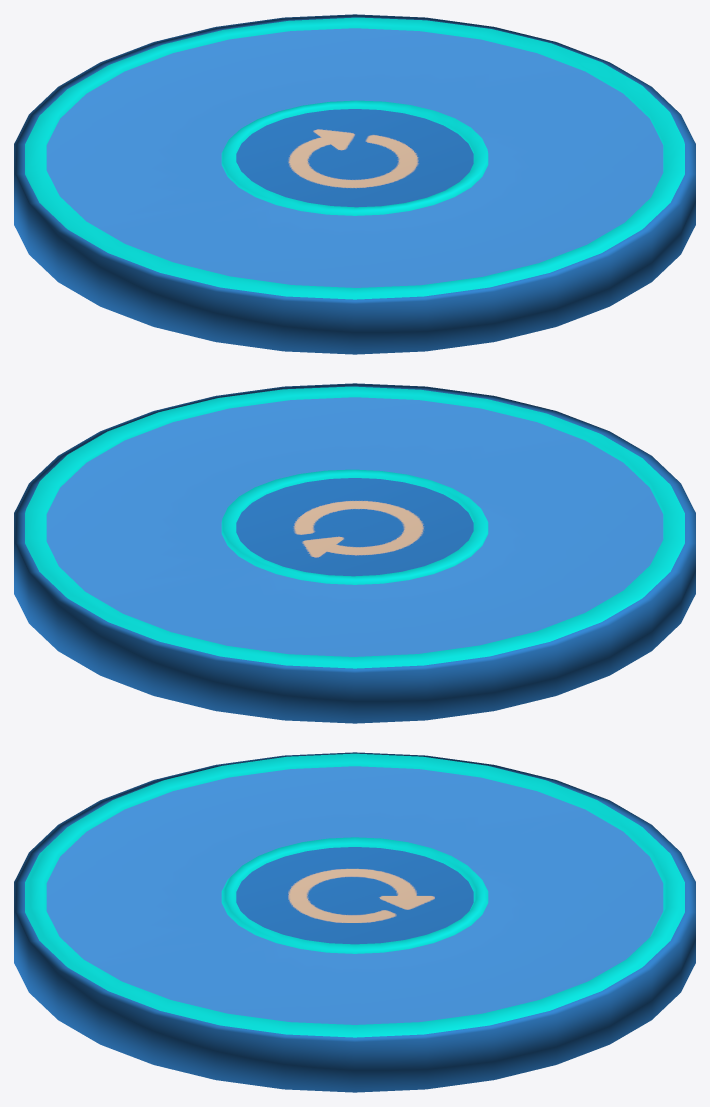
The model's file is MEC0110003.fbx.
3 renders of one model, top to bottom at view 1: azimuth 30°, elevation 25°; view 2: azimuth 150°, elevation 25°; view 3: azimuth 270°, elevation 25°, orthographic.
Parts seen in each view (by area): view 1: smMEC0110003; view 2: smMEC0110003; view 3: smMEC0110003.
Part boxes in pixels (<box>): smMEC0110003: <box>14,14,695,354</box>; smMEC0110003: <box>14,383,695,723</box>; smMEC0110003: <box>14,752,695,1092</box>.
Bounding box in the file's own units: 605 × 52.35 × 602.
1 material, 1 textured.
